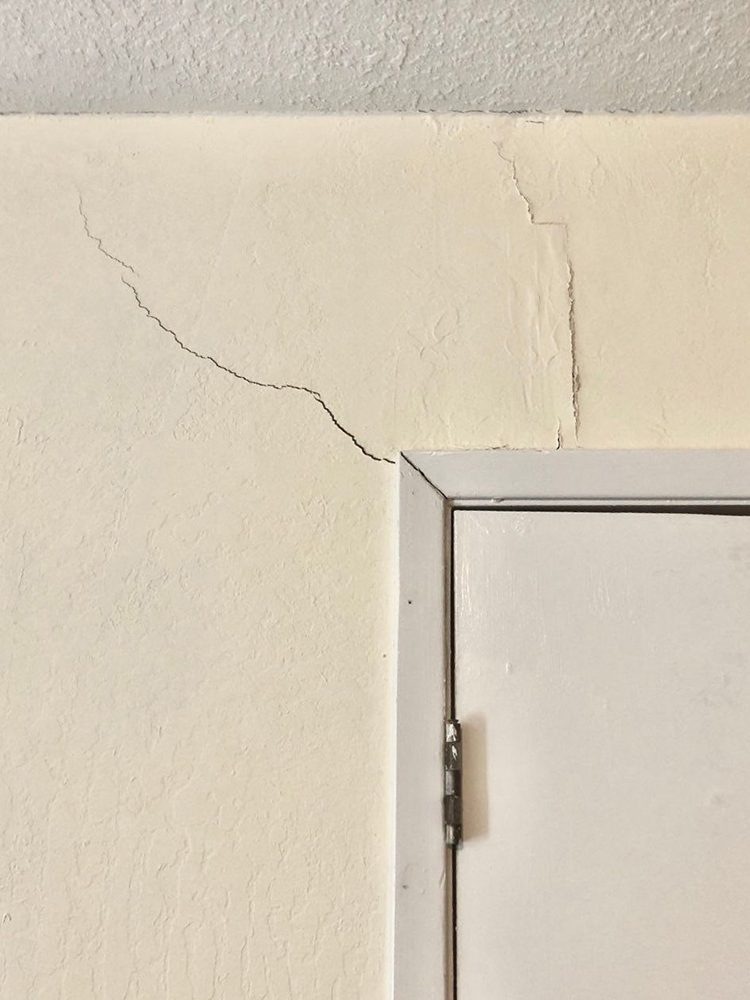crack: (74, 187, 398, 466), (499, 143, 578, 442)
